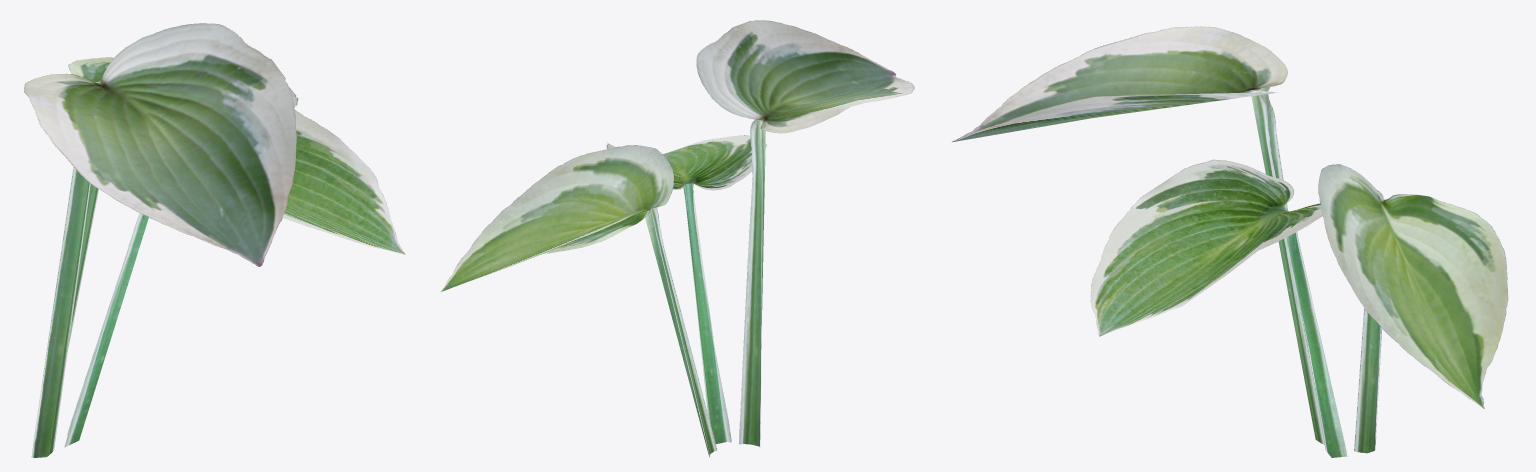
Rendered from plant_small_wg_00_fillerA.fbx.
3 renders of one model, left to right at view 1: azimuth 30°, elevation 25°; view 2: azimuth 150°, elevation 25°; view 3: azimuth 270°, elevation 25°, orthographic. The views are drawn at different scales.
Visible parts, largest first — view 1: plant_small_wg_00_fillerA; view 2: plant_small_wg_00_fillerA; view 3: plant_small_wg_00_fillerA.
Boxes of the visible parts, x1,y1,x2,y2 form: plant_small_wg_00_fillerA: (24, 23, 405, 457); plant_small_wg_00_fillerA: (440, 20, 914, 457); plant_small_wg_00_fillerA: (952, 26, 1508, 457).
Size of the model in its own units: 26.28 by 27.21 by 34.77.
1 material, 1 textured.
